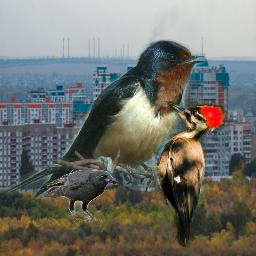Crow: (43, 170, 118, 222)
Swallow: (4, 39, 206, 199)
Woodpecker: (150, 101, 225, 248)
